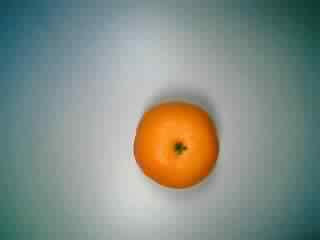orange: (128, 93, 223, 195)
